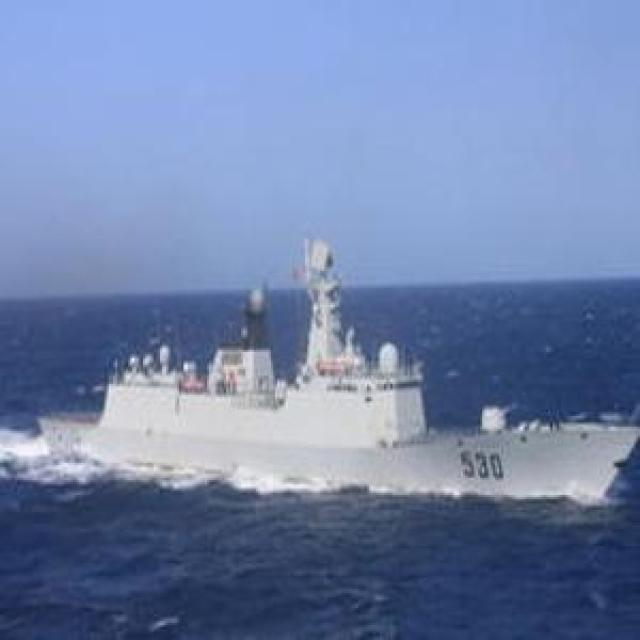navalvessels: (28, 240, 639, 504)
